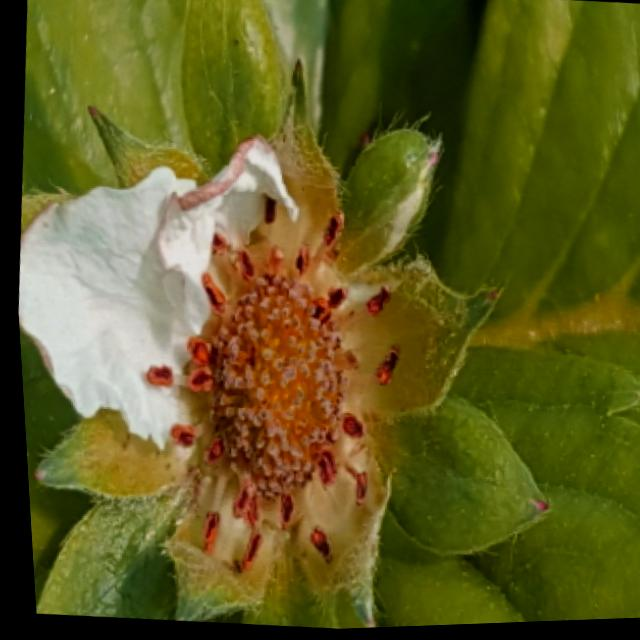Blossom Blight: (138, 189, 405, 580)
